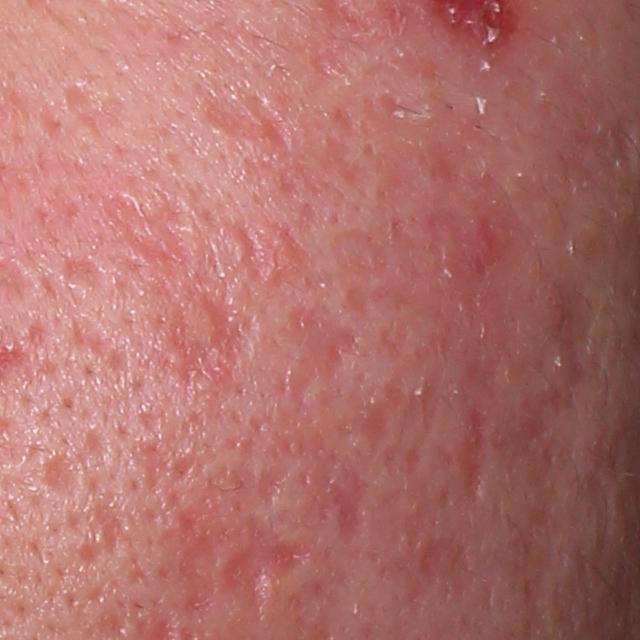atrophic_scar: (162, 510, 313, 627), (160, 282, 264, 393), (106, 188, 199, 298), (188, 80, 302, 164), (285, 301, 358, 404), (68, 314, 135, 377), (458, 400, 496, 506), (258, 431, 306, 510), (415, 529, 477, 589), (62, 80, 124, 139), (76, 499, 130, 563), (127, 439, 198, 487), (326, 469, 369, 548), (330, 227, 391, 282), (371, 77, 431, 127), (39, 449, 88, 506), (55, 253, 107, 296), (235, 225, 269, 289)
